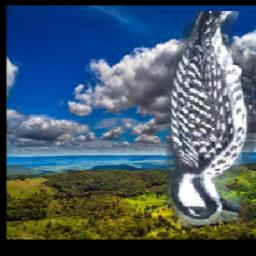Woodpecker: (165, 12, 256, 229)
